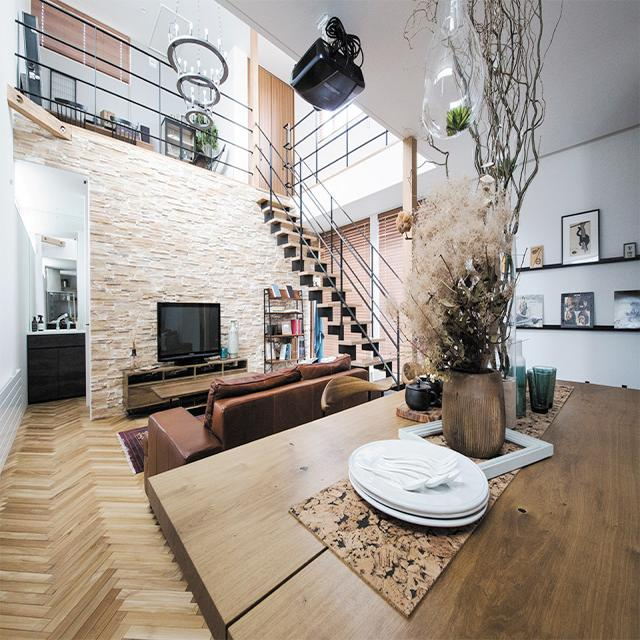vintage shelf: (262, 286, 306, 366)
